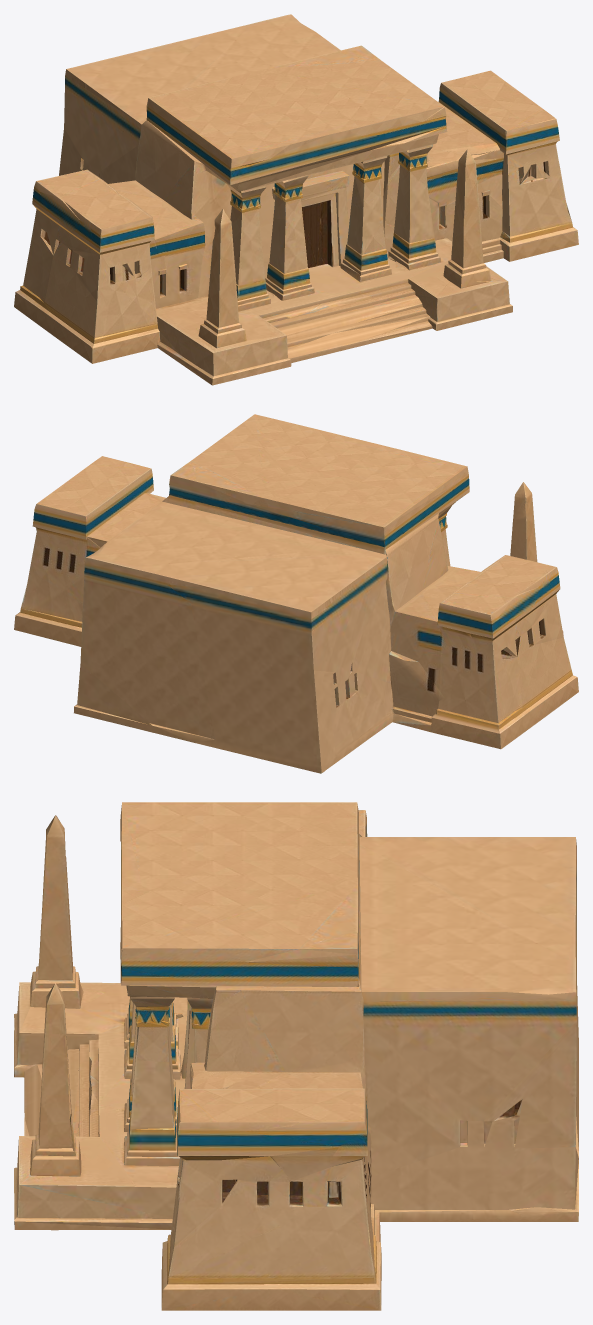
Rendered from egypt-palace.glb.
The picture shows the model from 3 angles, top to bottom: view 1: azimuth 30°, elevation 25°; view 2: azimuth 150°, elevation 25°; view 3: azimuth 270°, elevation 25°; orthographic projection. The views are drawn at different scales.
Bounding box in the file's own units: 1.9 × 0.6919 × 1.36.
Materials: 1 (1 with a texture image).
